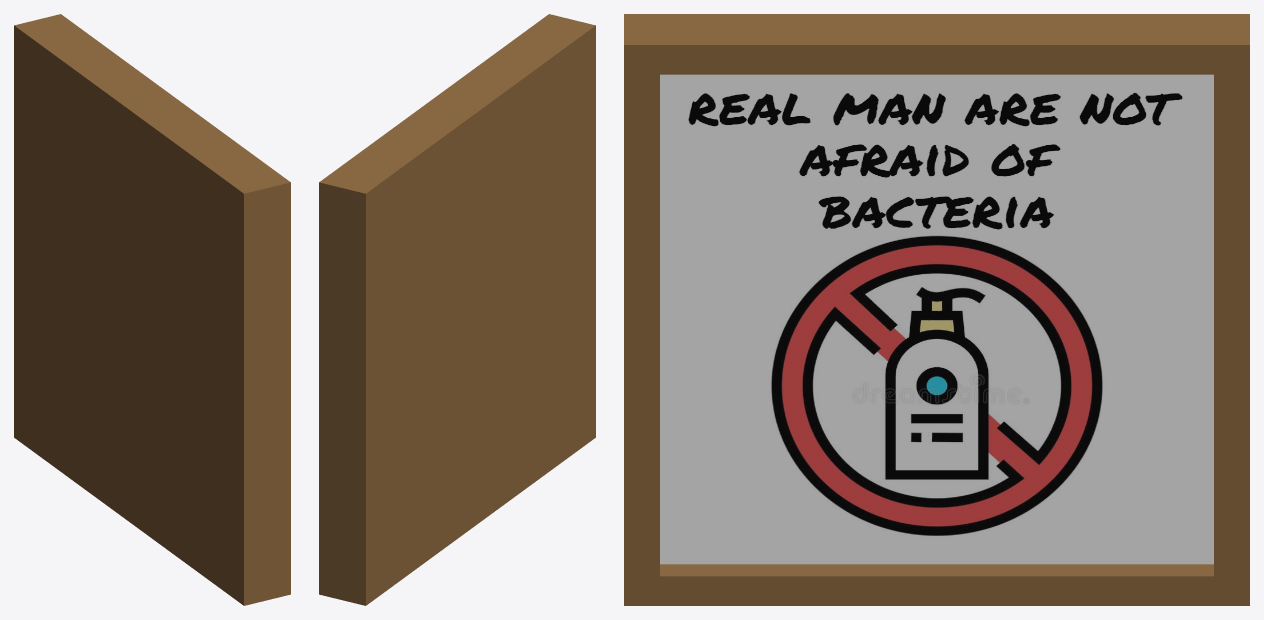
The model's file is bathroom.fbx.
3 renders of one model, left to right at view 1: azimuth 30°, elevation 25°; view 2: azimuth 150°, elevation 25°; view 3: azimuth 270°, elevation 25°, orthographic. The views are drawn at different scales.
Visible parts, largest first — view 1: video_image-CeEvSWVzEf; view 2: video_image-CeEvSWVzEf; view 3: video_image-CeEvSWVzEf.
Part boxes in pixels (left/top/right/bottom): video_image-CeEvSWVzEf: left=14, top=14, right=290, bottom=605; video_image-CeEvSWVzEf: left=319, top=14, right=595, bottom=605; video_image-CeEvSWVzEf: left=624, top=14, right=1249, bottom=605.
Size of the model in its own units: 13.29 by 112 by 113.
2 materials, 1 textured.
